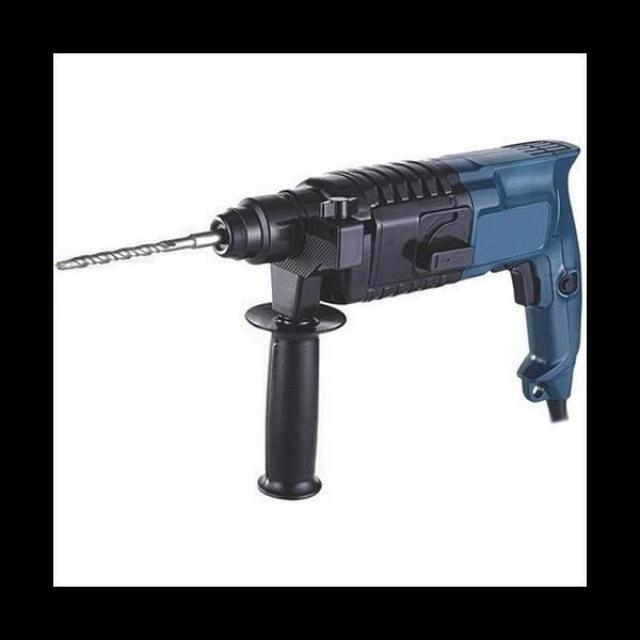drill: (55, 141, 582, 501)
